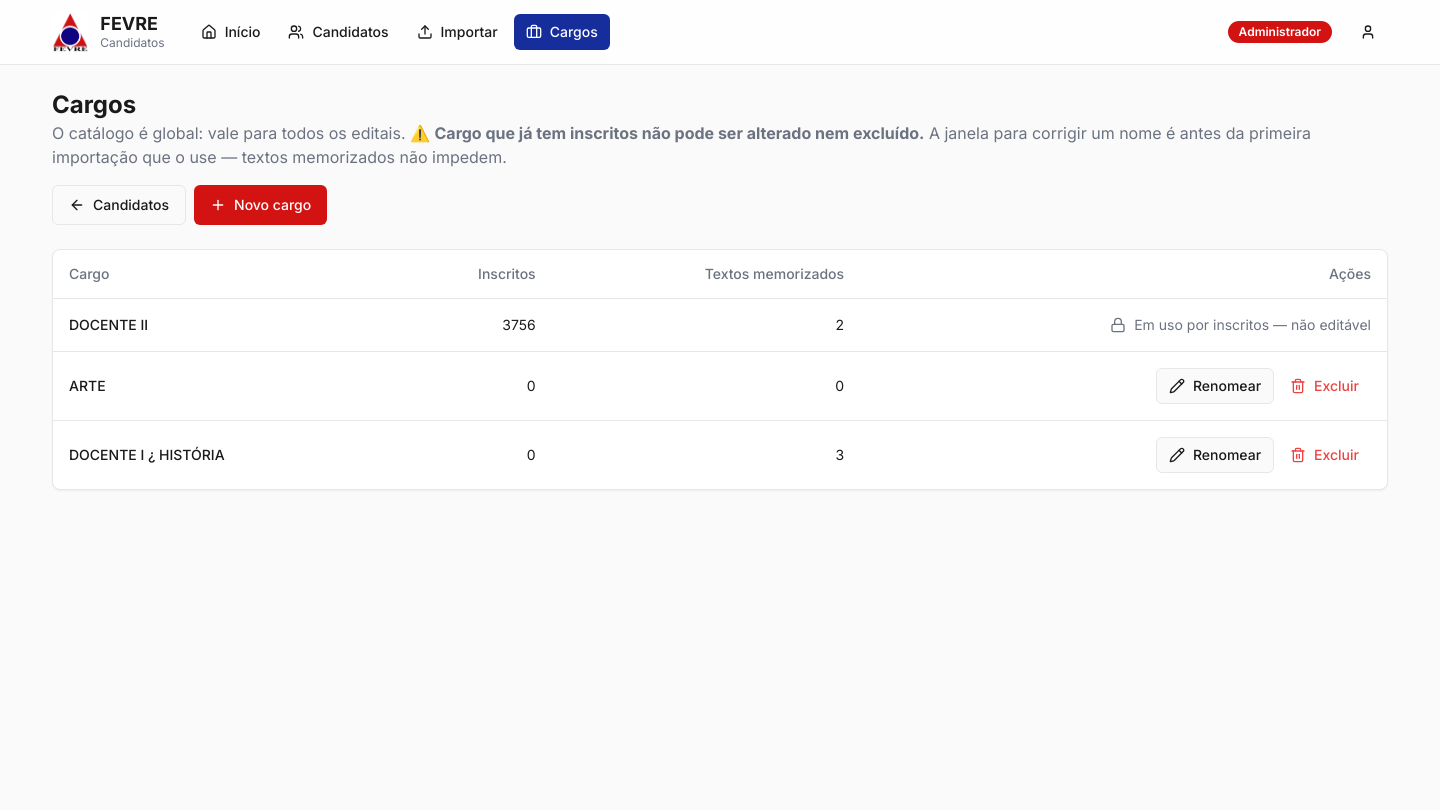
Test: Cargos (interação) › exclusão › não mostra o aviso de apelidos quando não há nenhum
The width and height of the screenshot is (1440, 810).
Expected: the text "ARTE" is shown, [53,351,390,420]
Click the button with aria-label "Excluir ARTE": (1325, 386) [1278,368,1371,404]
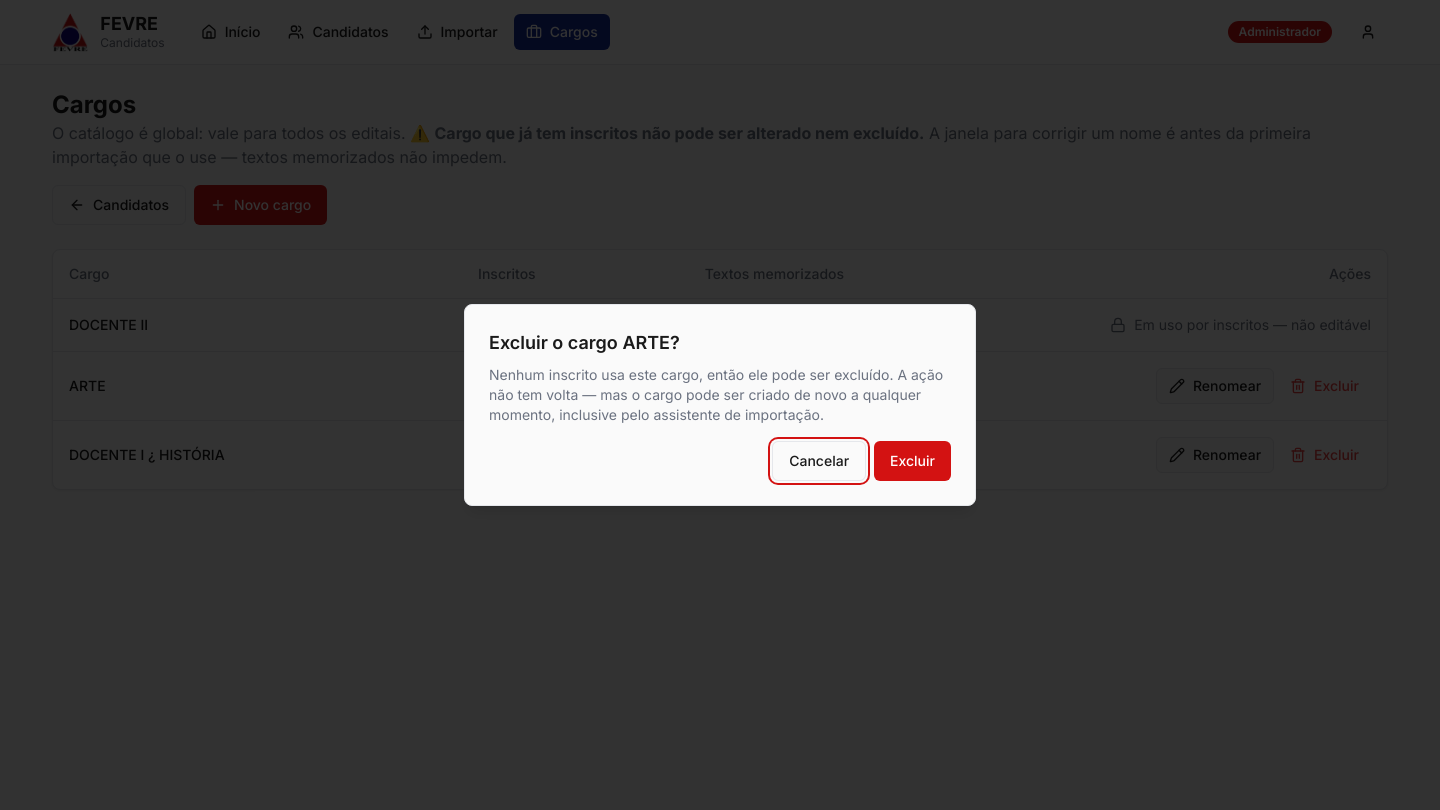
Now the text "Nenhum inscrito usa este cargo" is shown, box [489,366,943,423]
